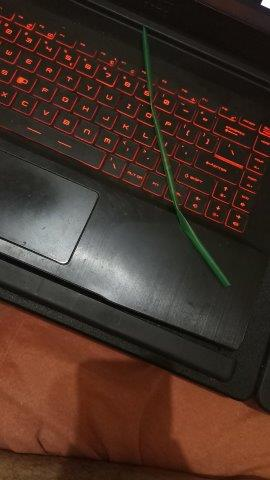sedotan: (142, 28, 229, 285)
